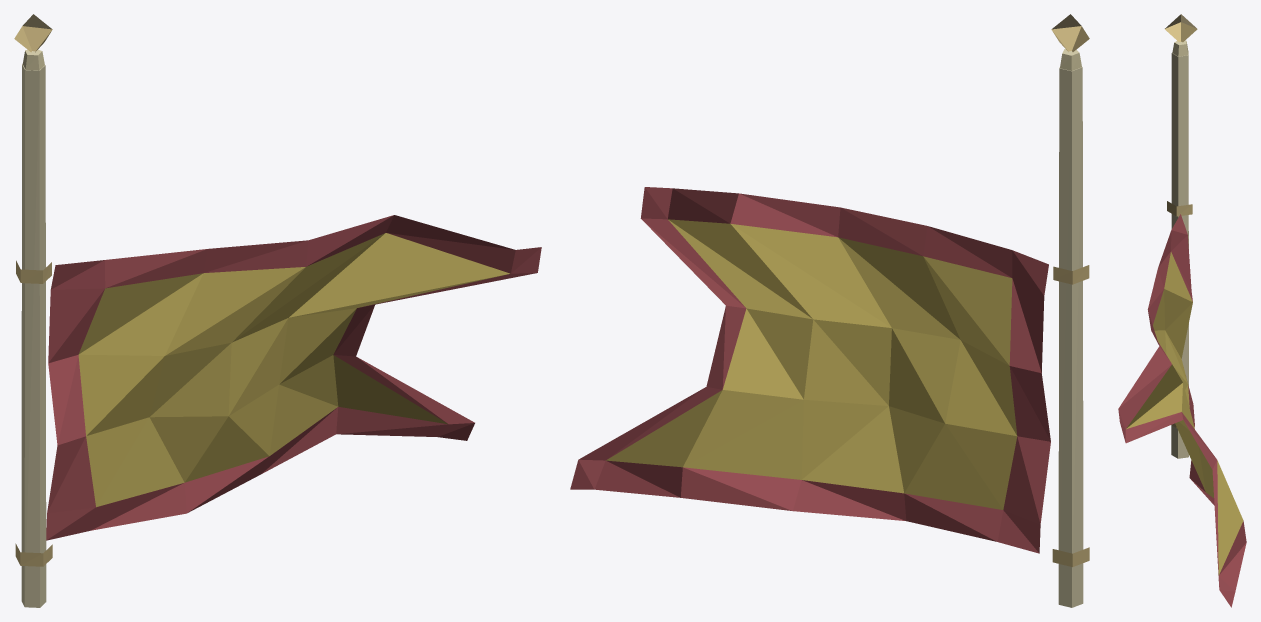
The model's file is flag.swallowtail.jinyan__pole.stick.mugun__midmast.glb.
The picture shows the model from 3 angles, left to right: view 1: azimuth 30°, elevation 25°; view 2: azimuth 150°, elevation 25°; view 3: azimuth 270°, elevation 25°; orthographic projection. The views are drawn at different scales.
Visible parts, largest first — view 1: flag.swallowtail.jinyan; view 2: flag.swallowtail.jinyan; view 3: flag.swallowtail.jinyan.
Boxes of the visible parts, box(x1,y1,x2,y2) form: flag.swallowtail.jinyan: box(14, 14, 541, 607); flag.swallowtail.jinyan: box(570, 14, 1089, 607); flag.swallowtail.jinyan: box(1118, 14, 1246, 607).
Size of the model in its own units: 1.8 by 2.08 by 0.5501.
